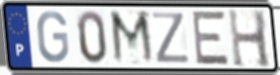0: (75, 8, 110, 67)
E: (191, 9, 231, 67)
G: (35, 10, 71, 65)
H: (226, 7, 274, 69)
M: (108, 9, 158, 67)
Z: (150, 11, 193, 65)
